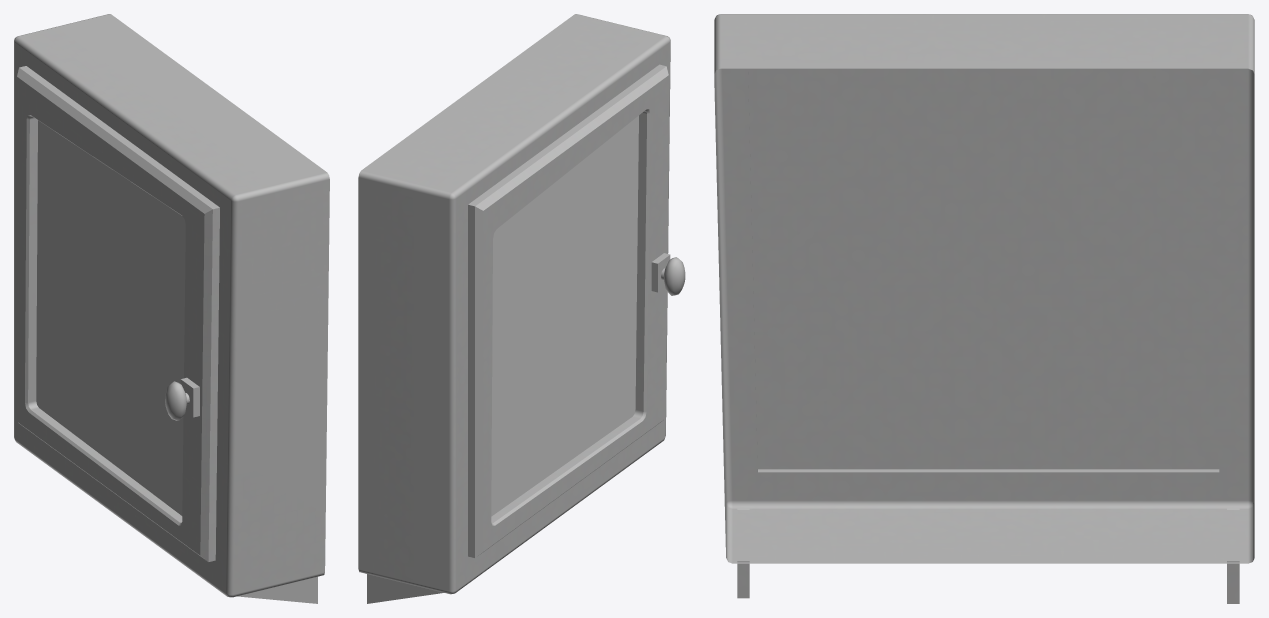
The model's file is SM_BTWindow.fbx.
The picture shows the model from 3 angles, left to right: view 1: azimuth 30°, elevation 25°; view 2: azimuth 150°, elevation 25°; view 3: azimuth 270°, elevation 25°; orthographic projection. The views are drawn at different scales.
Parts seen in each view (by area): view 1: SM_BTWindow_LOD0; view 2: SM_BTWindow_LOD0; view 3: SM_BTWindow_LOD0.
Part boxes in pixels (box(x1,y1,x2,y2)): SM_BTWindow_LOD0: box(14, 14, 329, 603); SM_BTWindow_LOD0: box(358, 14, 685, 603); SM_BTWindow_LOD0: box(714, 14, 1254, 603).
Bounding box in the file's own units: 36.61 × 104 × 114.
Materials: 2 (1 with a texture image).
